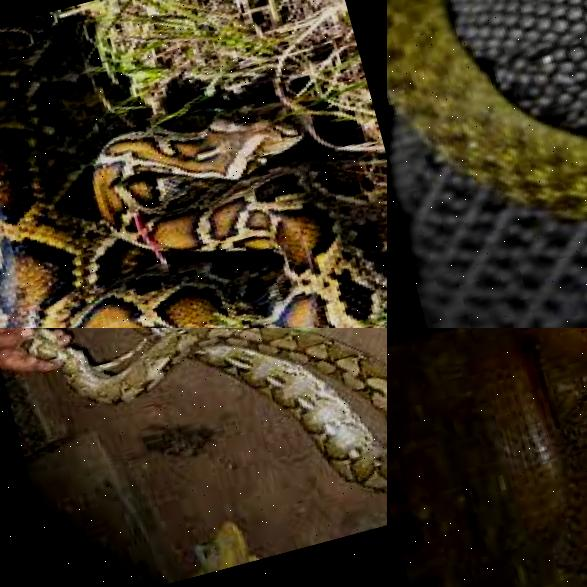snake: (0, 0, 387, 328), (0, 328, 387, 574), (387, 0, 587, 312), (410, 328, 587, 587)
